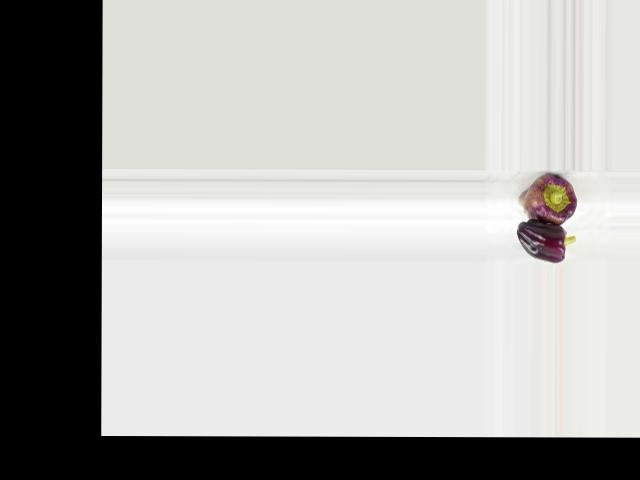bell_pepper: (508, 171, 588, 226)
